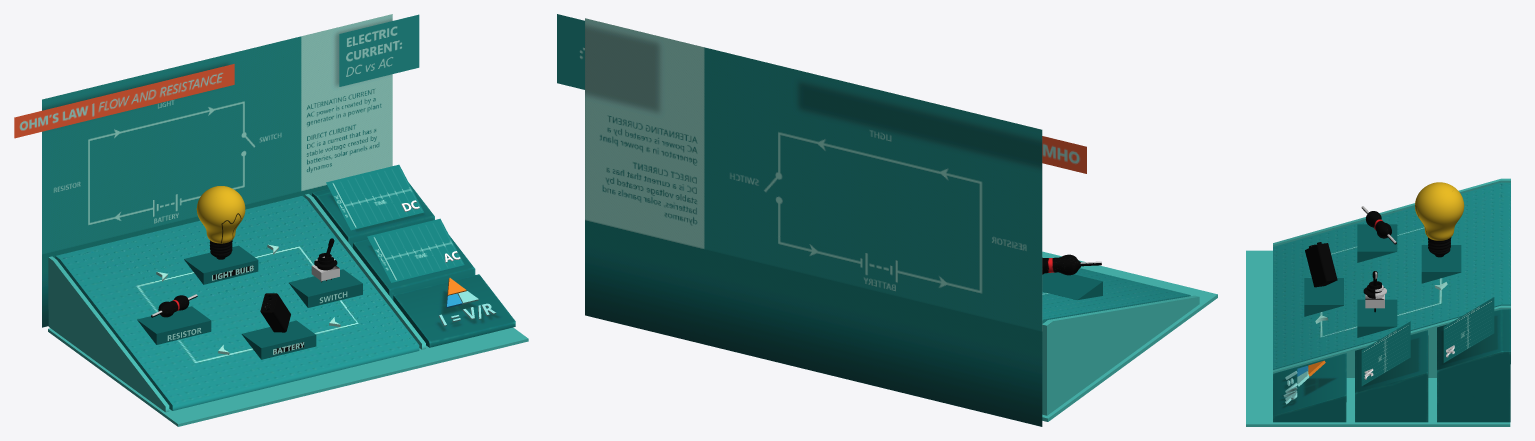
The model's file is circuit.fbx.
3 renders of one model, left to right at view 1: azimuth 30°, elevation 25°; view 2: azimuth 150°, elevation 25°; view 3: azimuth 270°, elevation 25°, orthographic. The views are drawn at different scales.
Parts seen in each view (by area): view 1: node_id280, node_id246, node_id313, node_id264, node_id353, node_id244, node_id242, node_id278, node_id276, node_id315, node_id318, node_id324 (+6 smaller); view 2: node_id280, node_id264, node_id246, node_id313, node_id242, node_id274, node_id244, node_id306; view 3: node_id246, node_id313, node_id324, node_id318, node_id353, node_id315, node_id278, node_id276, node_id266, node_id268, node_id270, node_id272 (+5 smaller).
Boxes of the visible parts, <box> form: node_id280: <box>42,14,392,327</box>; node_id246: <box>55,196,419,410</box>; node_id313: <box>48,327,528,426</box>; node_id264: <box>48,256,169,412</box>; node_id353: <box>393,274,515,347</box>; node_id244: <box>14,64,234,138</box>; node_id242: <box>339,14,419,86</box>; node_id278: <box>326,164,423,230</box>; node_id276: <box>367,218,464,282</box>; node_id315: <box>196,186,245,259</box>; node_id318: <box>353,235,475,300</box>; node_id324: <box>312,182,434,247</box>; node_id280: <box>585,18,1042,426</box>; node_id264: <box>1042,295,1199,415</box>; node_id246: <box>1042,268,1190,323</box>; node_id313: <box>1042,251,1217,421</box>; node_id242: <box>557,14,584,89</box>; node_id274: <box>1042,272,1102,299</box>; node_id244: <box>1042,136,1086,173</box>; node_id306: <box>1042,254,1080,275</box>; node_id246: <box>1273,182,1510,369</box>; node_id313: <box>1246,250,1510,426</box>; node_id324: <box>1437,309,1510,422</box>; node_id318: <box>1355,330,1428,422</box>; node_id353: <box>1273,353,1346,422</box>; node_id315: <box>1415,182,1464,257</box>; node_id278: <box>1443,297,1494,362</box>; node_id276: <box>1361,321,1410,385</box>; node_id266: <box>1273,305,1510,377</box>; node_id268: <box>1357,299,1397,337</box>; node_id270: <box>1304,278,1343,316</box>; node_id272: <box>1421,245,1461,283</box>.
Bounding box in the file's own units: 0.2016 × 0.1084 × 0.1165.
